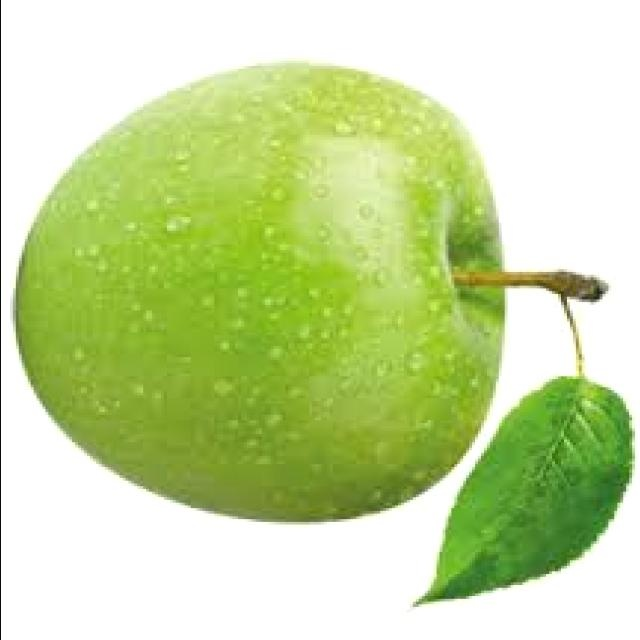agrume: (0, 52, 612, 549)
